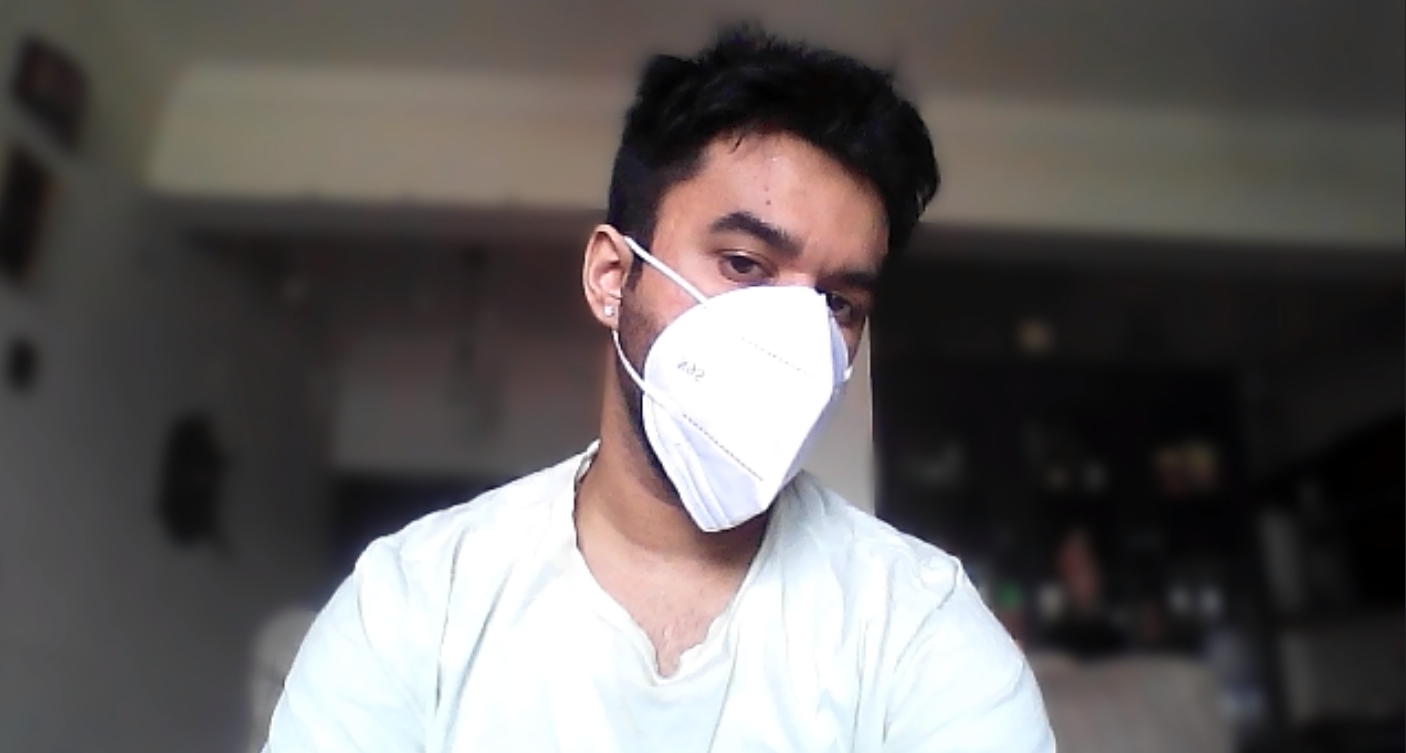Mask: (620, 240, 863, 549)
